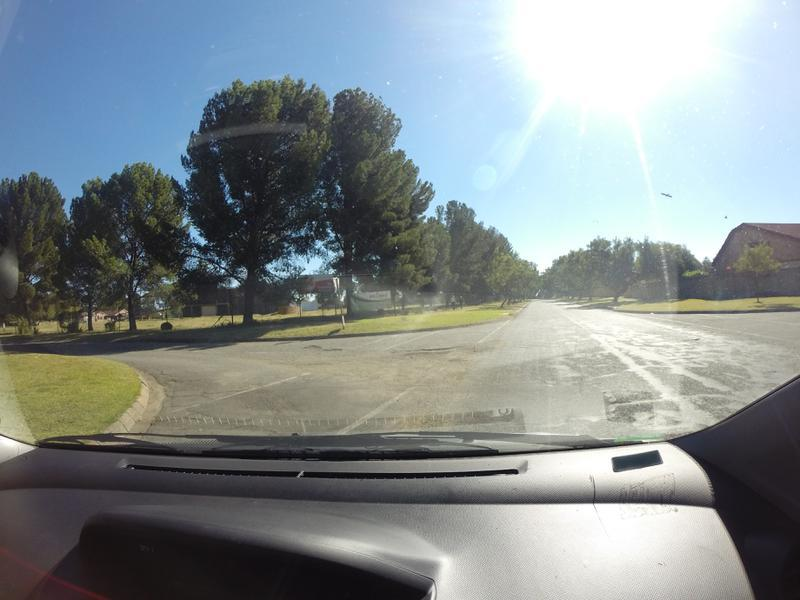pothole: (302, 343, 345, 355), (402, 347, 462, 354)
